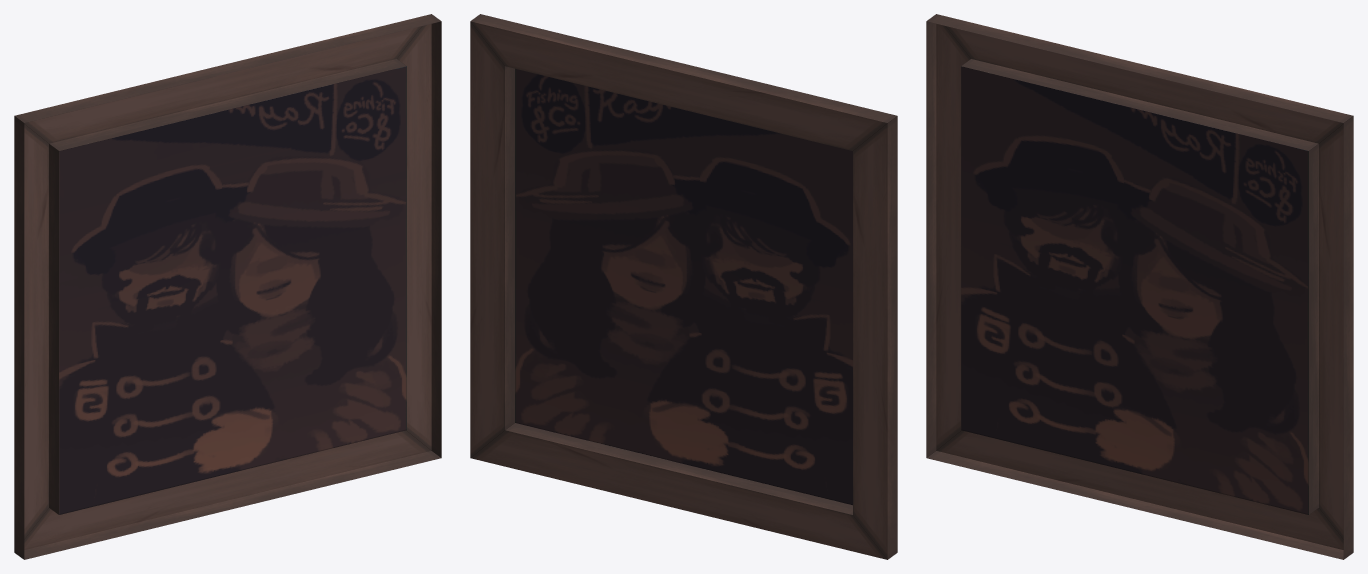
File: small_painting_2.fbx
The picture shows the model from 3 angles, left to right: view 1: azimuth 30°, elevation 25°; view 2: azimuth 150°, elevation 25°; view 3: azimuth 330°, elevation 25°; orthographic projection.
Visible parts, largest first — view 1: small_painting_2; view 2: small_painting_2; view 3: small_painting_2.
Part boxes in pixels (x1,y1,x2,y2): small_painting_2: [14, 14, 441, 559]; small_painting_2: [470, 14, 897, 559]; small_painting_2: [926, 14, 1353, 559].
Bounding box in the file's own units: 2.4 × 0.1 × 2.4.
